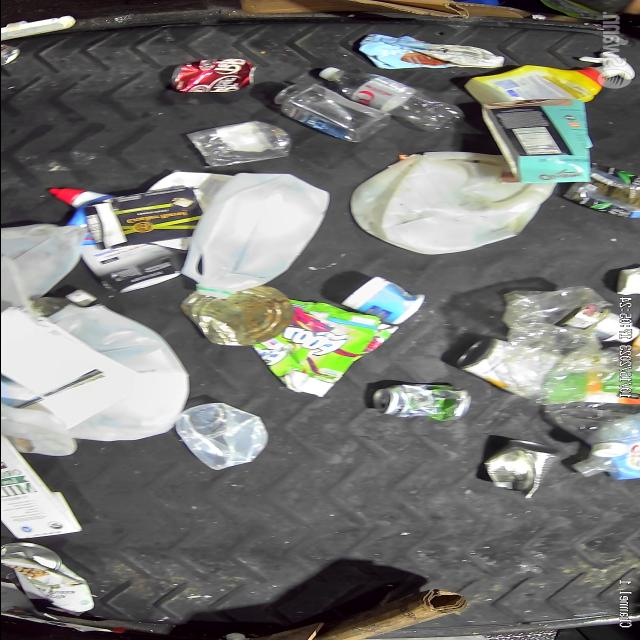can: (186, 287, 286, 347), (454, 337, 544, 389), (488, 437, 560, 500), (374, 384, 468, 420), (164, 58, 258, 90)
milk_jug: (352, 150, 566, 252), (46, 293, 185, 445), (182, 168, 326, 298), (185, 403, 272, 465)
non_white_jug: (464, 70, 612, 112)
plastic_bottle: (565, 327, 640, 463), (314, 62, 459, 132), (278, 86, 400, 146)
